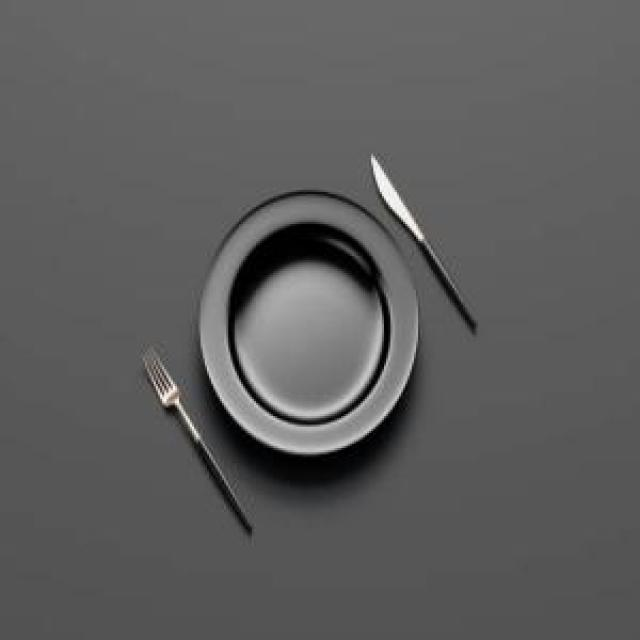knife: (371, 147, 482, 336)
